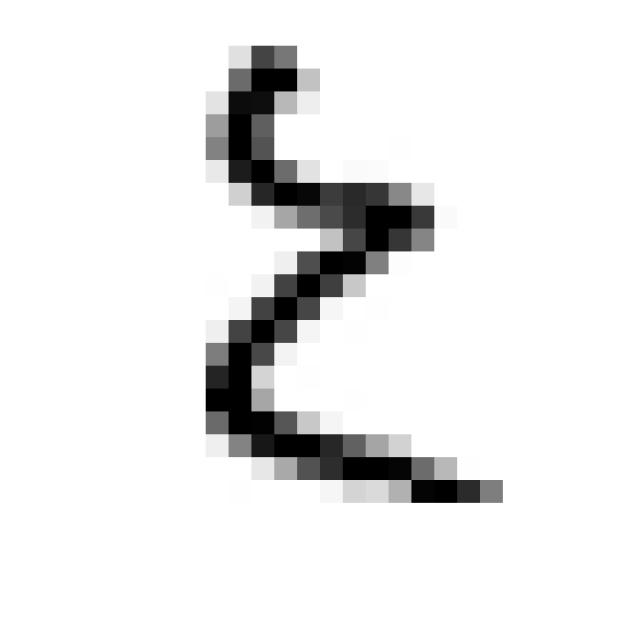4 -four-: (181, 30, 522, 526)
